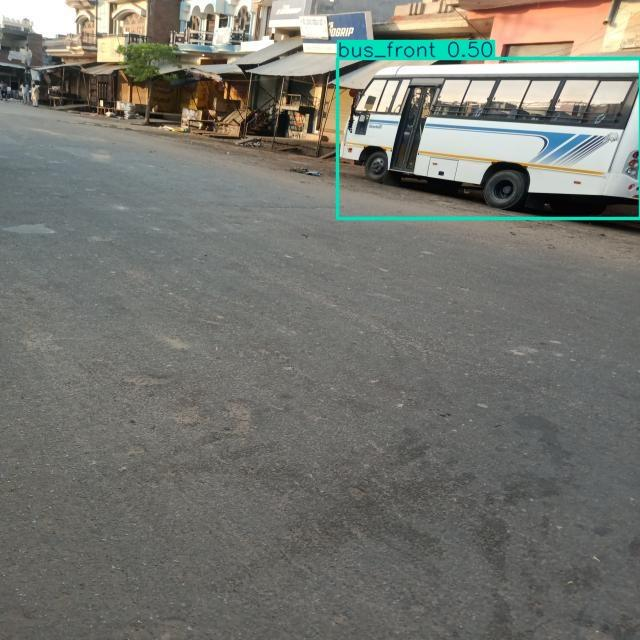bus_back: (334, 53, 640, 217)
